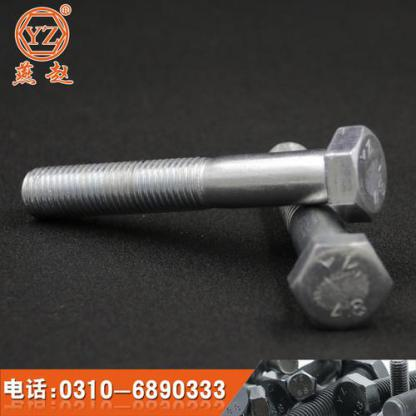FOD: (19, 121, 392, 225), (266, 137, 396, 329)
